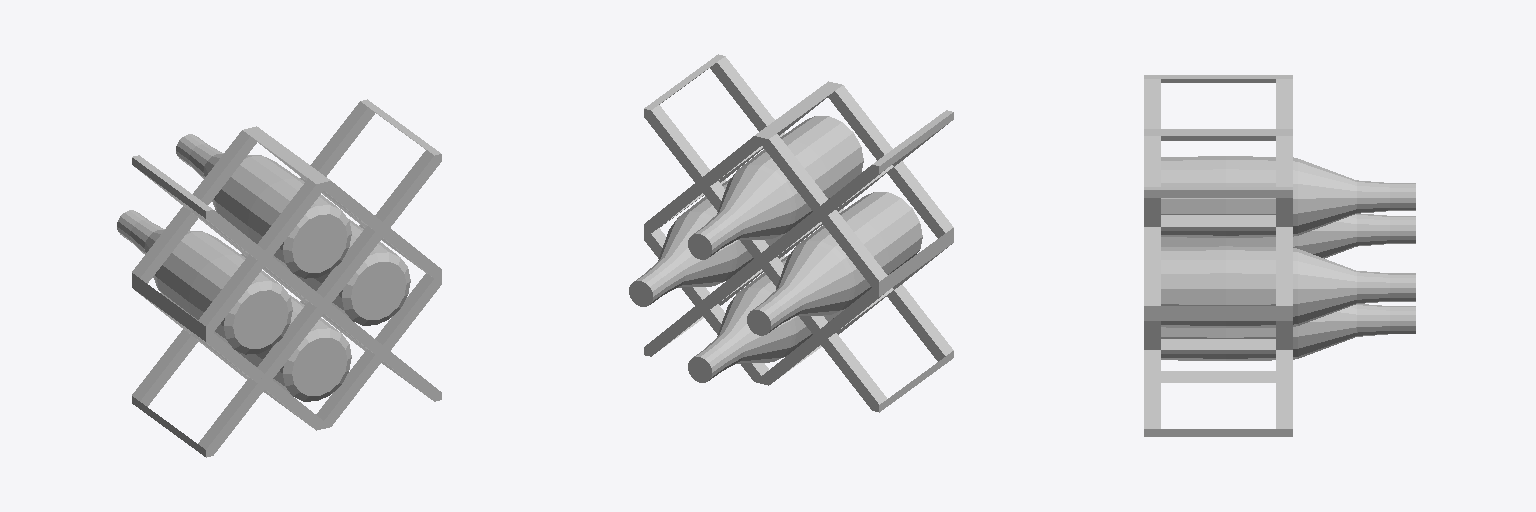
File: homedecor_wine_rack.obj
3 views of the same model, side by side, from view 1: azimuth 30°, elevation 25°; view 2: azimuth 150°, elevation 25°; view 3: azimuth 270°, elevation 25° (orthographic).
Visible parts, largest first — view 1: bottle.1_Cylinder.007; view 2: bottle.1_Cylinder.007; view 3: bottle.1_Cylinder.007.
Boxes of the visible parts, box(x1,y1,x2,y2) form: bottle.1_Cylinder.007: box(117, 99, 441, 457); bottle.1_Cylinder.007: box(629, 54, 953, 412); bottle.1_Cylinder.007: box(1144, 75, 1415, 436).
Size of the model in its own units: 0.9992 by 0.9972 by 0.9973.